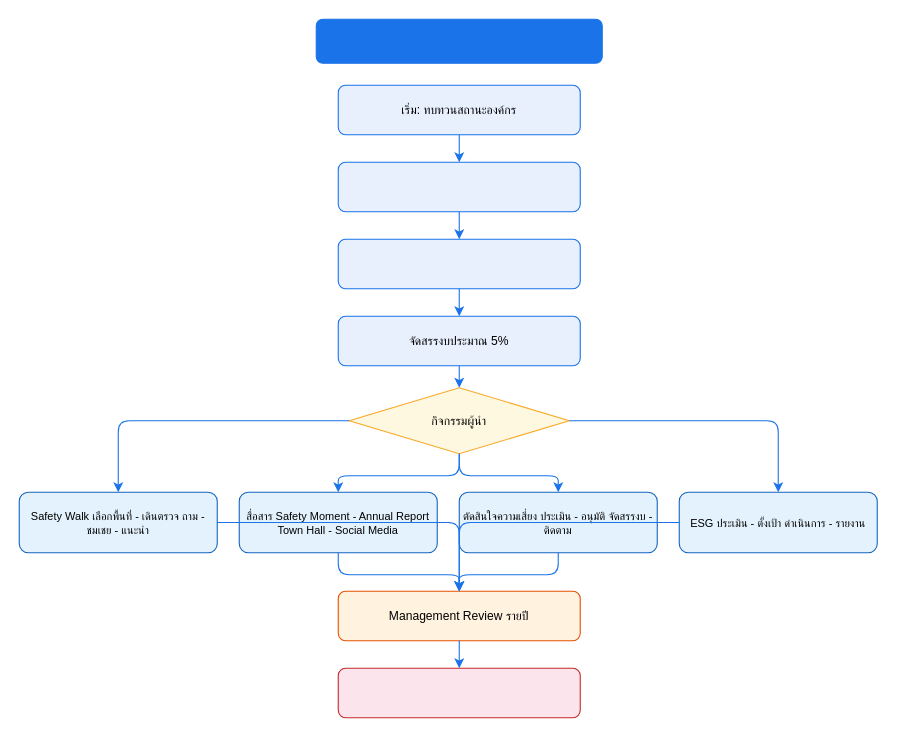
Some shapes in this 897 by 737 pixel diagram are drawn without their labels. Here are the shapes that lost their labels. From the top down, the centre of each, then its label:
At (x=458, y=40): "PM-WI-006: จป.ผู้บริหาร".
At (x=458, y=186): "ประกาศ Zero Accident".
At (x=458, y=263): "สื่อสารทุกคน ทุกช่องทาง".
At (x=458, y=692): "ทบทวนนโยบาย - อัปเดต".
